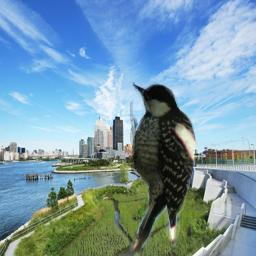Woodpecker: (130, 82, 197, 252)
